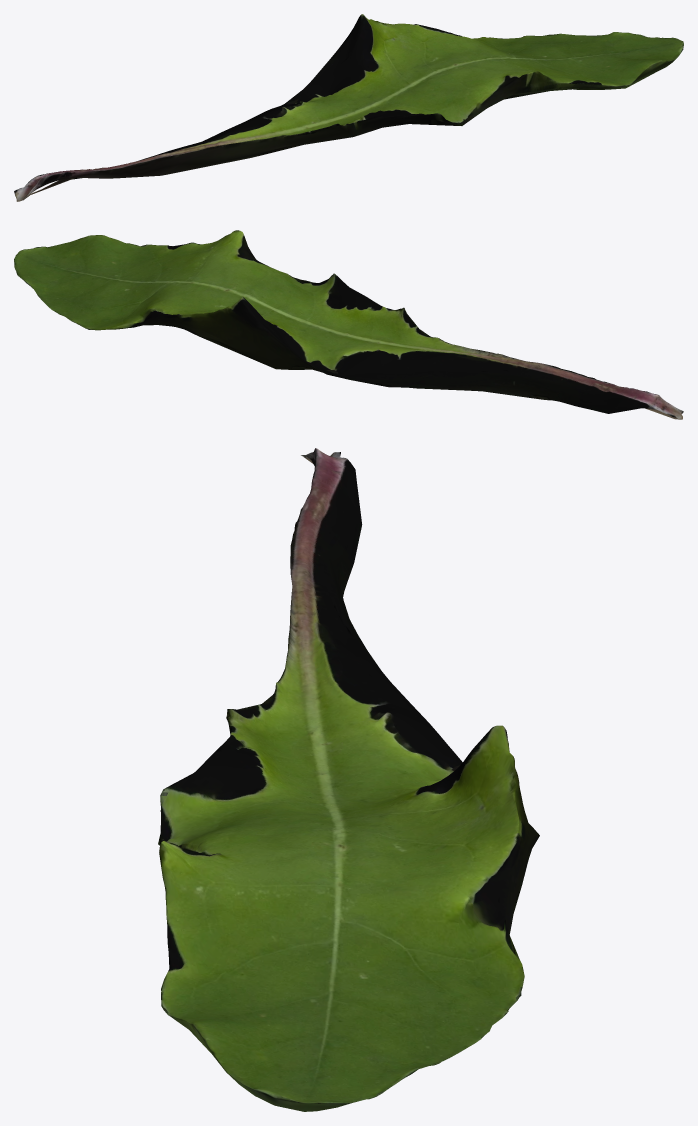
File: leaf-03.glb
The picture shows the model from 3 angles, top to bottom: view 1: azimuth 30°, elevation 25°; view 2: azimuth 150°, elevation 25°; view 3: azimuth 270°, elevation 25°; orthographic projection. The views are drawn at different scales.
Visible parts, largest first — view 1: Mesh; view 2: Mesh; view 3: Mesh.
Part boxes in pixels (left/top/right/bottom): Mesh: left=14, top=14, right=683, bottom=201; Mesh: left=14, top=230, right=683, bottom=419; Mesh: left=158, top=448, right=539, bottom=1111.
Size of the model in its own units: 0.404 by 0.0454 by 0.101.
1 material, 1 textured.
